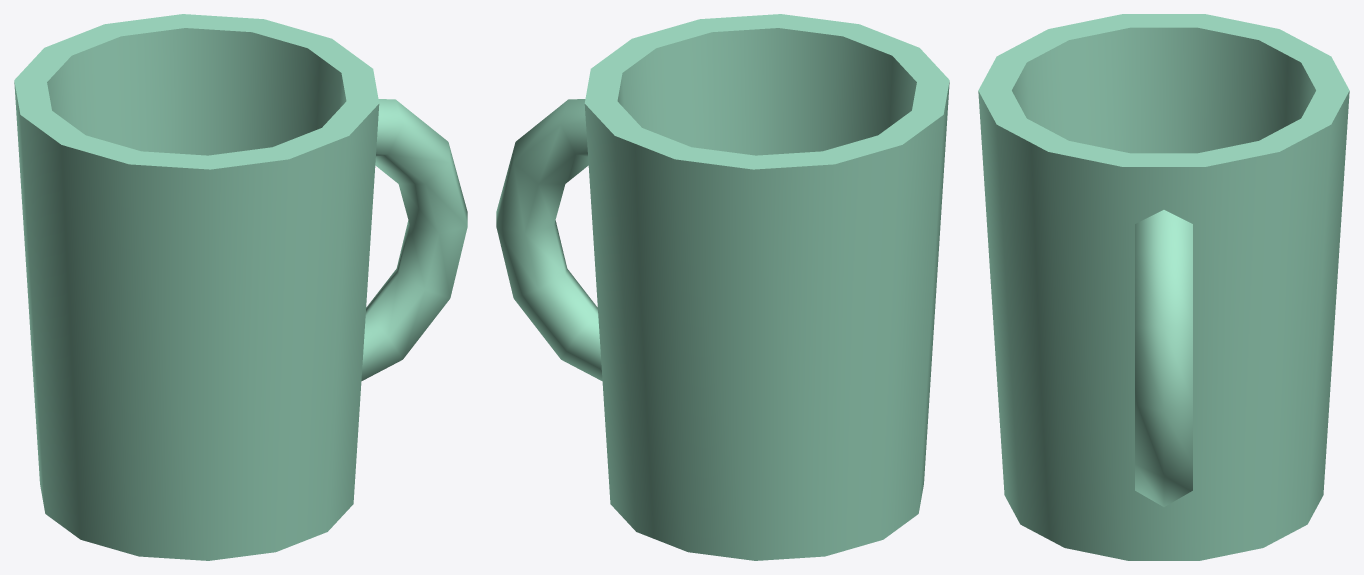
The model's file is cup.glb.
3 renders of one model, left to right at view 1: azimuth 30°, elevation 25°; view 2: azimuth 150°, elevation 25°; view 3: azimuth 270°, elevation 25°, orthographic.
Parts seen in each view (by area): view 1: cup; view 2: cup; view 3: cup.
Boxes of the visible parts, x1,y1,x2,y2 form: cup: [14, 14, 467, 560]; cup: [496, 14, 949, 560]; cup: [978, 14, 1349, 560].
Size of the model in its own units: 0.1689 by 0.1522 by 0.1265.
